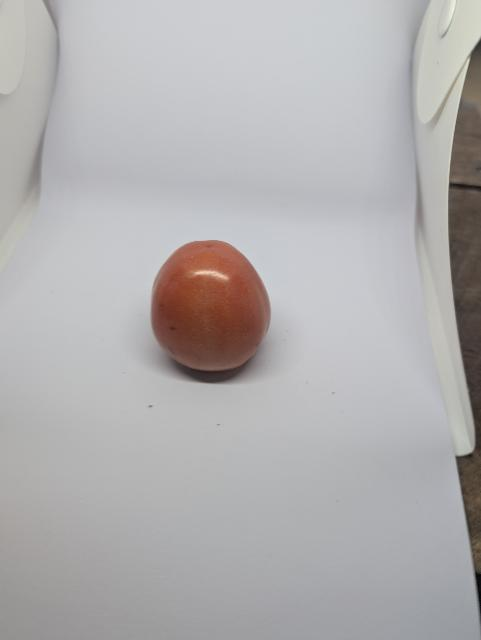red: (123, 231, 291, 384)
